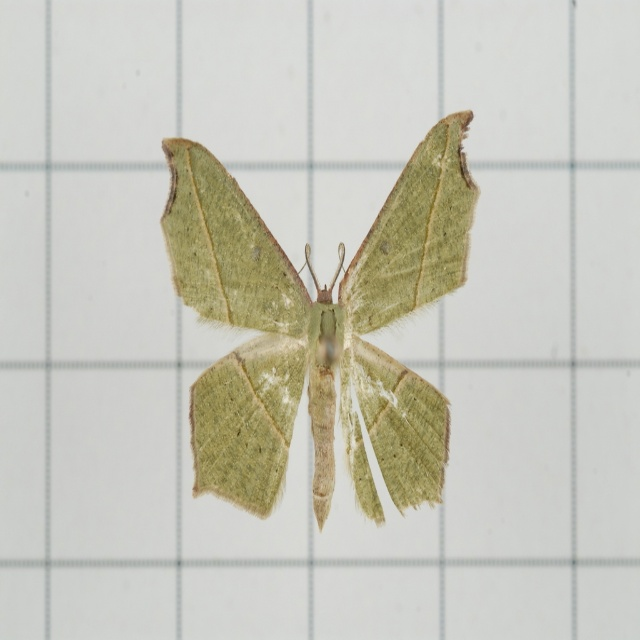Butterfly: (166, 111, 467, 554)
